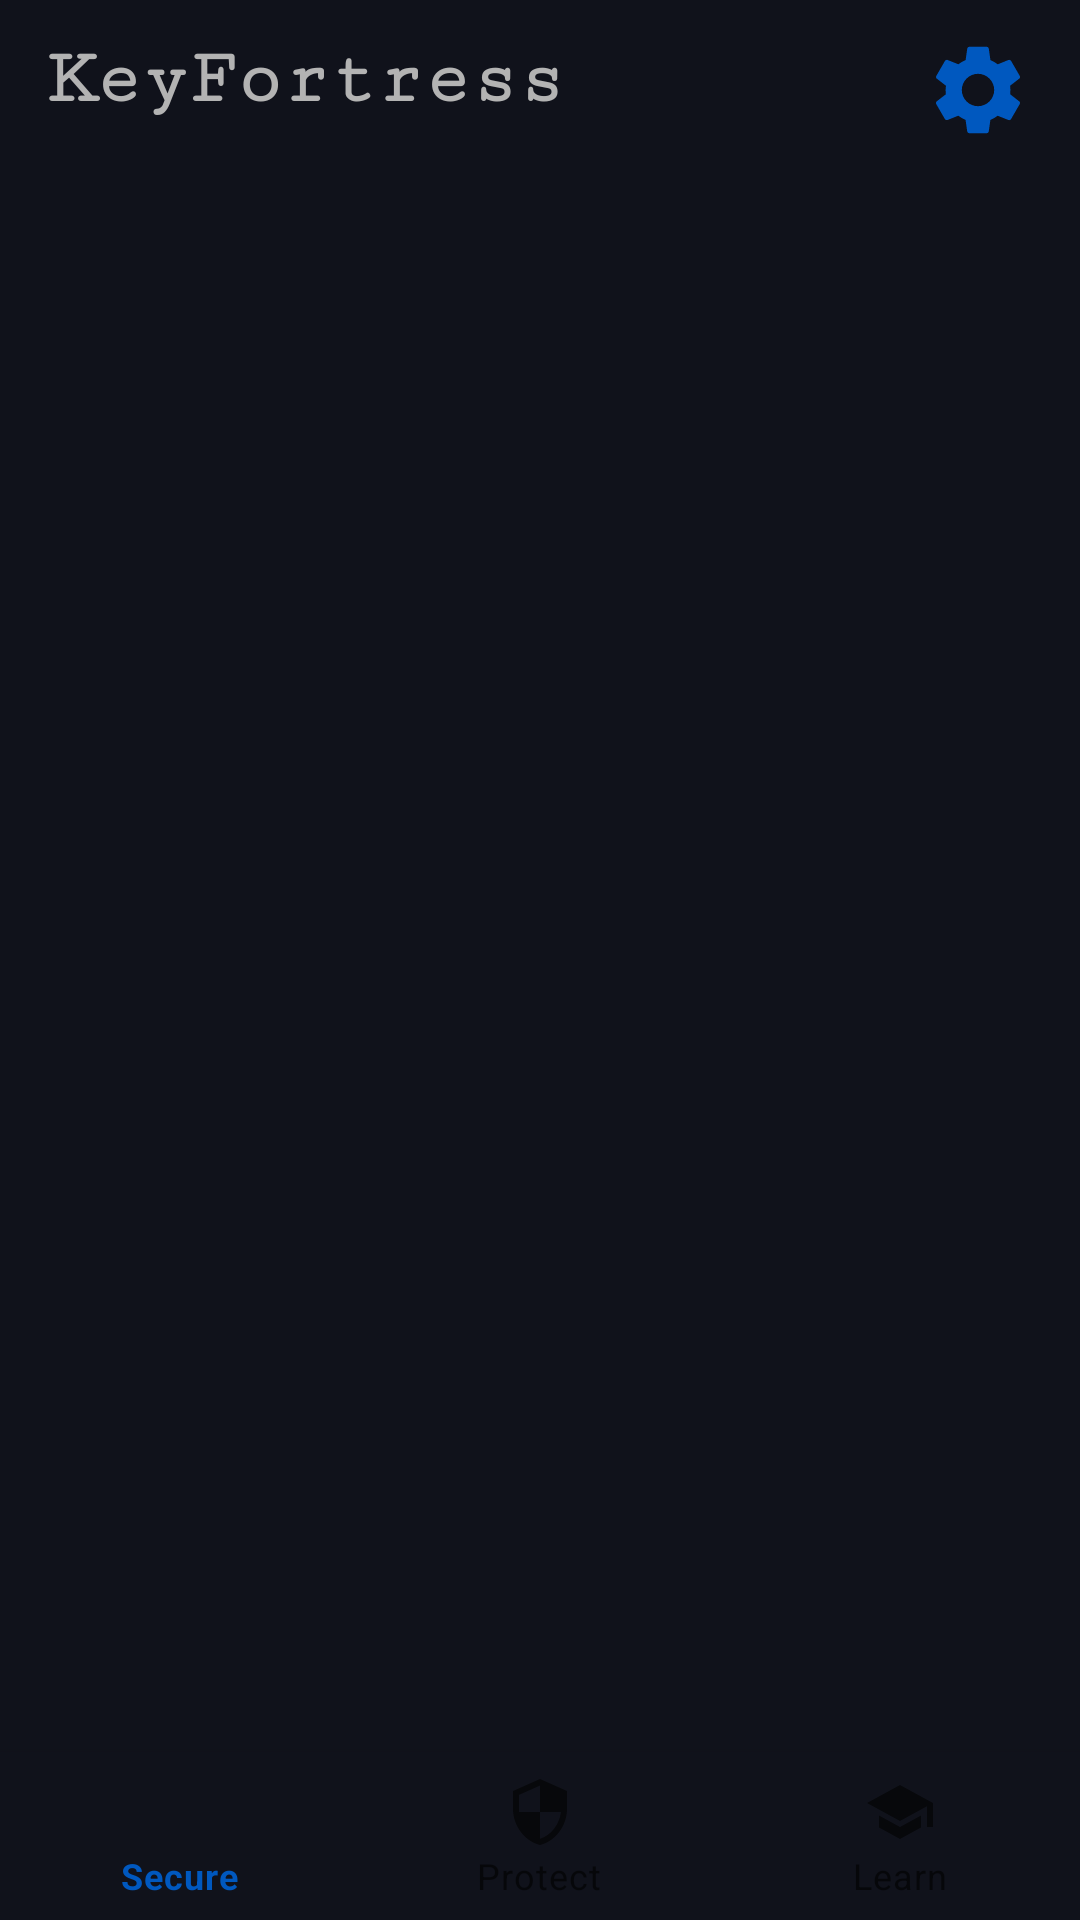

Locate icon controls on the screen. Image size 1080x1920, boxes as bbox=(x1, y1, x2, y2).
setting: bbox=(936, 46, 1020, 134)
